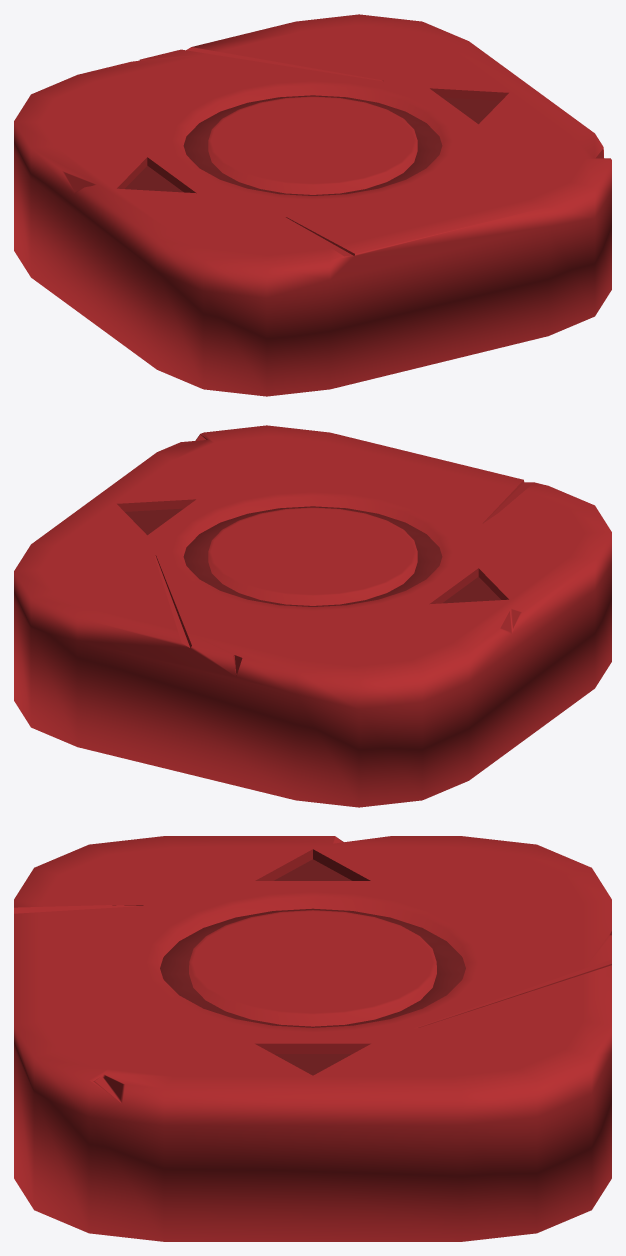
File: Plataforma_grave_vertical.fbx
The picture shows the model from 3 angles, top to bottom: view 1: azimuth 30°, elevation 25°; view 2: azimuth 150°, elevation 25°; view 3: azimuth 270°, elevation 25°; orthographic projection. The views are drawn at different scales.
Visible parts, largest first — view 1: platform, Torus.002, Cube.002, Cube.003; view 2: platform, Torus.002, Cube.002, Cube.003; view 3: platform, Torus.002, Cube.002, Cube.003.
Boxes of the visible parts, x1=… form: platform: x1=14, y1=14, x2=611, y2=396; Torus.002: x1=183, y1=95, x2=442, y2=195; Cube.002: x1=442, y1=97, x2=500, y2=124; Cube.003: x1=125, y1=166, x2=183, y2=192; platform: x1=14, y1=425, x2=611, y2=807; Torus.002: x1=183, y1=506, x2=442, y2=606; Cube.002: x1=125, y1=508, x2=183, y2=535; Cube.003: x1=442, y1=577, x2=500, y2=603; platform: x1=14, y1=836, x2=611, y2=1241; Torus.002: x1=160, y1=908, x2=465, y2=1027; Cube.002: x1=274, y1=1054, x2=351, y2=1075; Cube.003: x1=274, y1=859, x2=351, y2=880.
Size of the model in its own units: 200 by 56.49 by 200.
